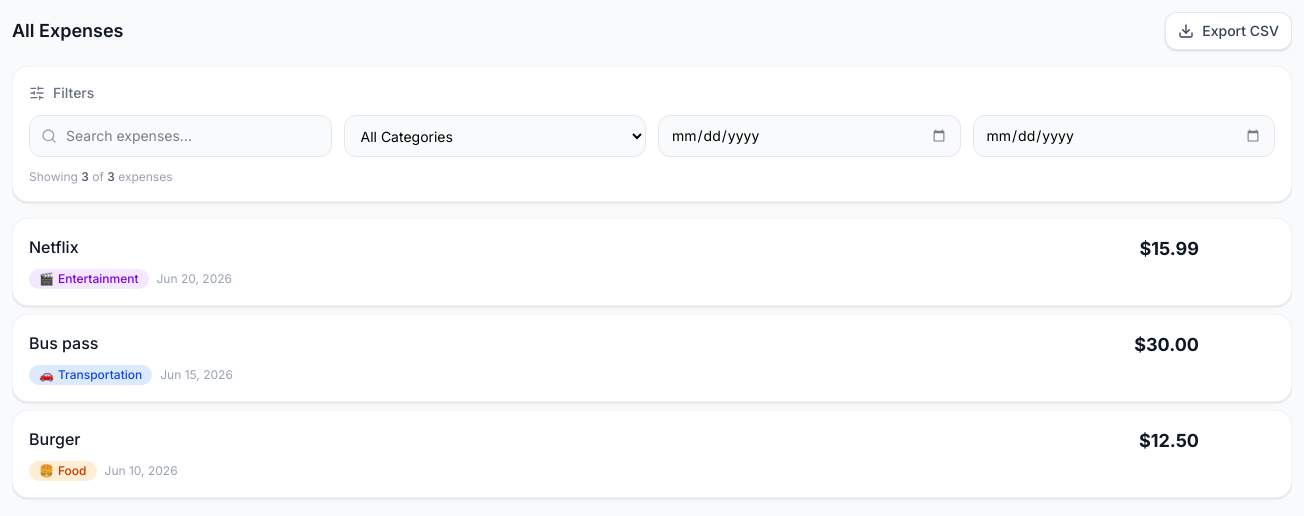
Test: ExpenseList — filtering › filters by search term and hides non-matching expenses
Type "burger" into the field with placeholder "Search expenses..." at (180, 136), box [29,115,332,157]
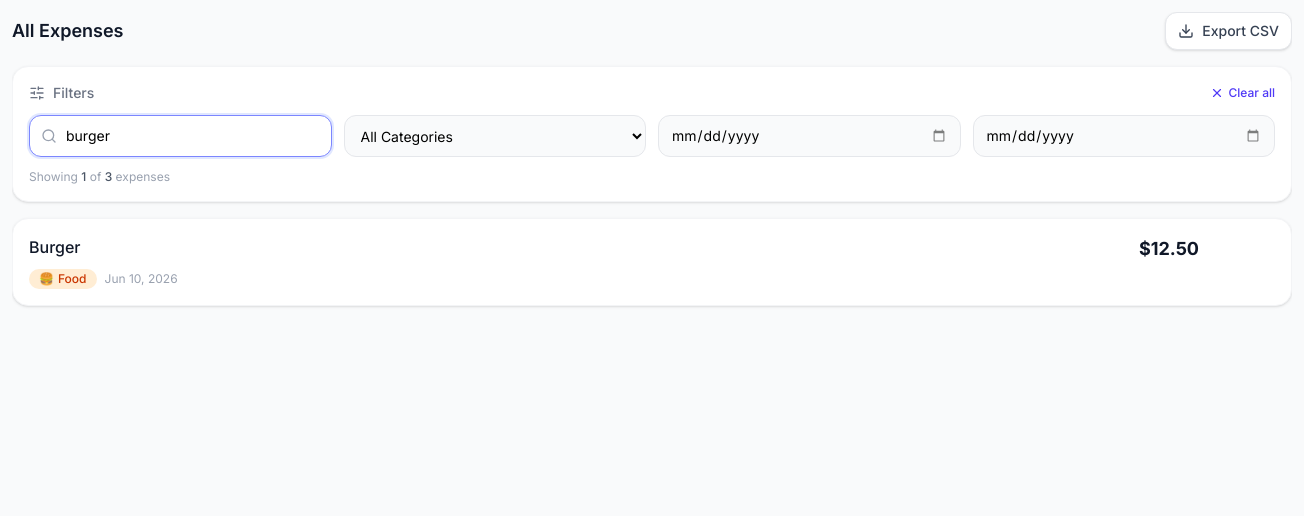
Check: the text "Burger" is shown, box [29,235,80,259]
Check: the text "Bus pass" is gone
Check: the text "Netflix" is gone
